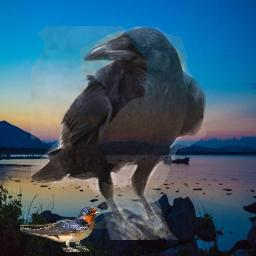Crow: (31, 26, 206, 240)
Swallow: (20, 207, 100, 252)
